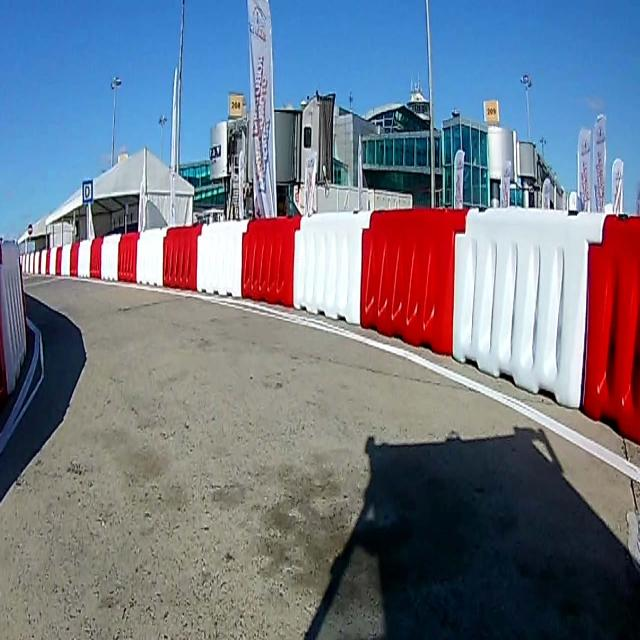durak: (82, 180, 92, 203)
